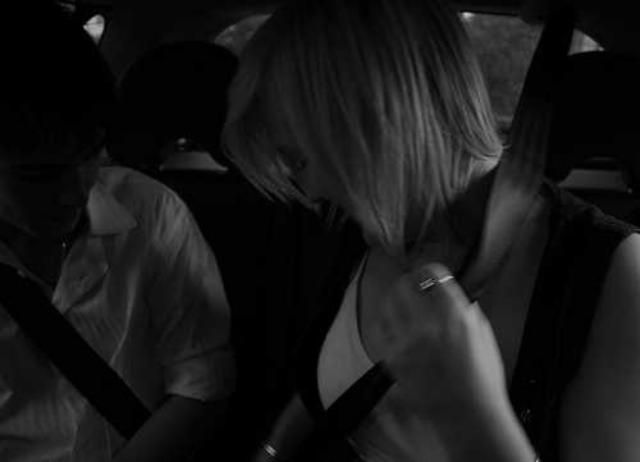Seatbelt: (293, 12, 579, 442), (1, 262, 158, 446)
